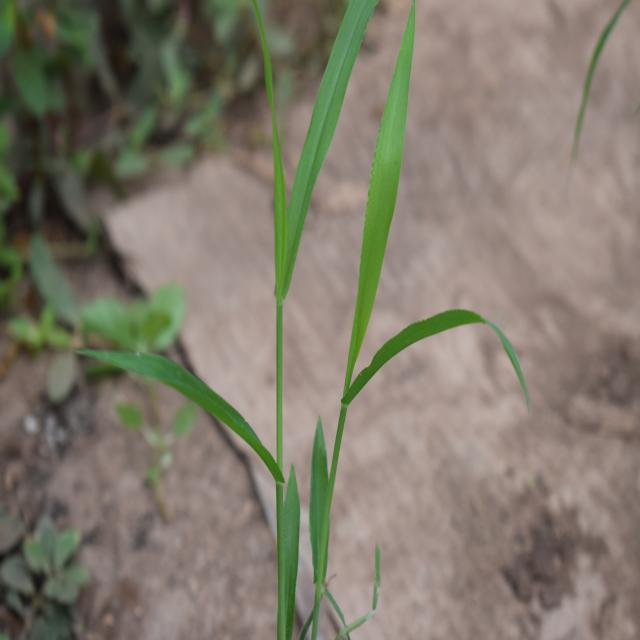crabgrass: (121, 0, 542, 558)
